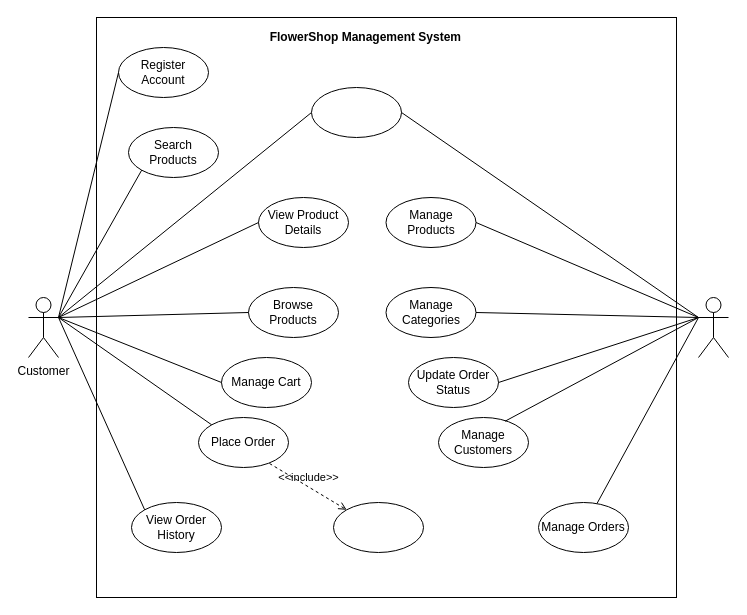
This 747x615 diagram has some shape labels left out. Each missing label, with the centre of its shape:
Admin: (x=713, y=327)
Login: (x=356, y=112)
Validate Availability: (x=378, y=527)
